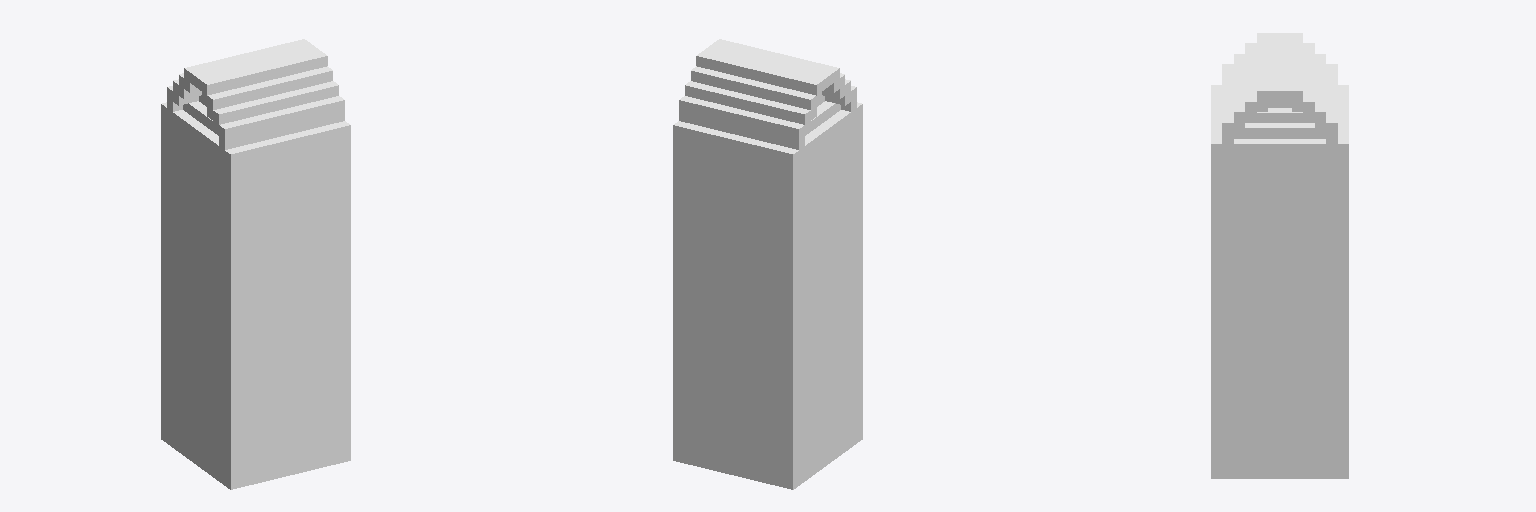
Rendered from milkpac.obj.
The picture shows the model from 3 angles: view 1: azimuth 30°, elevation 25°; view 2: azimuth 150°, elevation 25°; view 3: azimuth 270°, elevation 25°; orthographic projection.
Visible parts, largest first — view 1: object 1; view 2: object 1; view 3: object 1.
Boxes of the visible parts, box(x1,y1,x2,y2) form: object 1: box(161, 39, 350, 489); object 1: box(673, 39, 862, 489); object 1: box(1211, 33, 1348, 478).
Size of the model in its own units: 3.6 by 11.1 by 3.6.